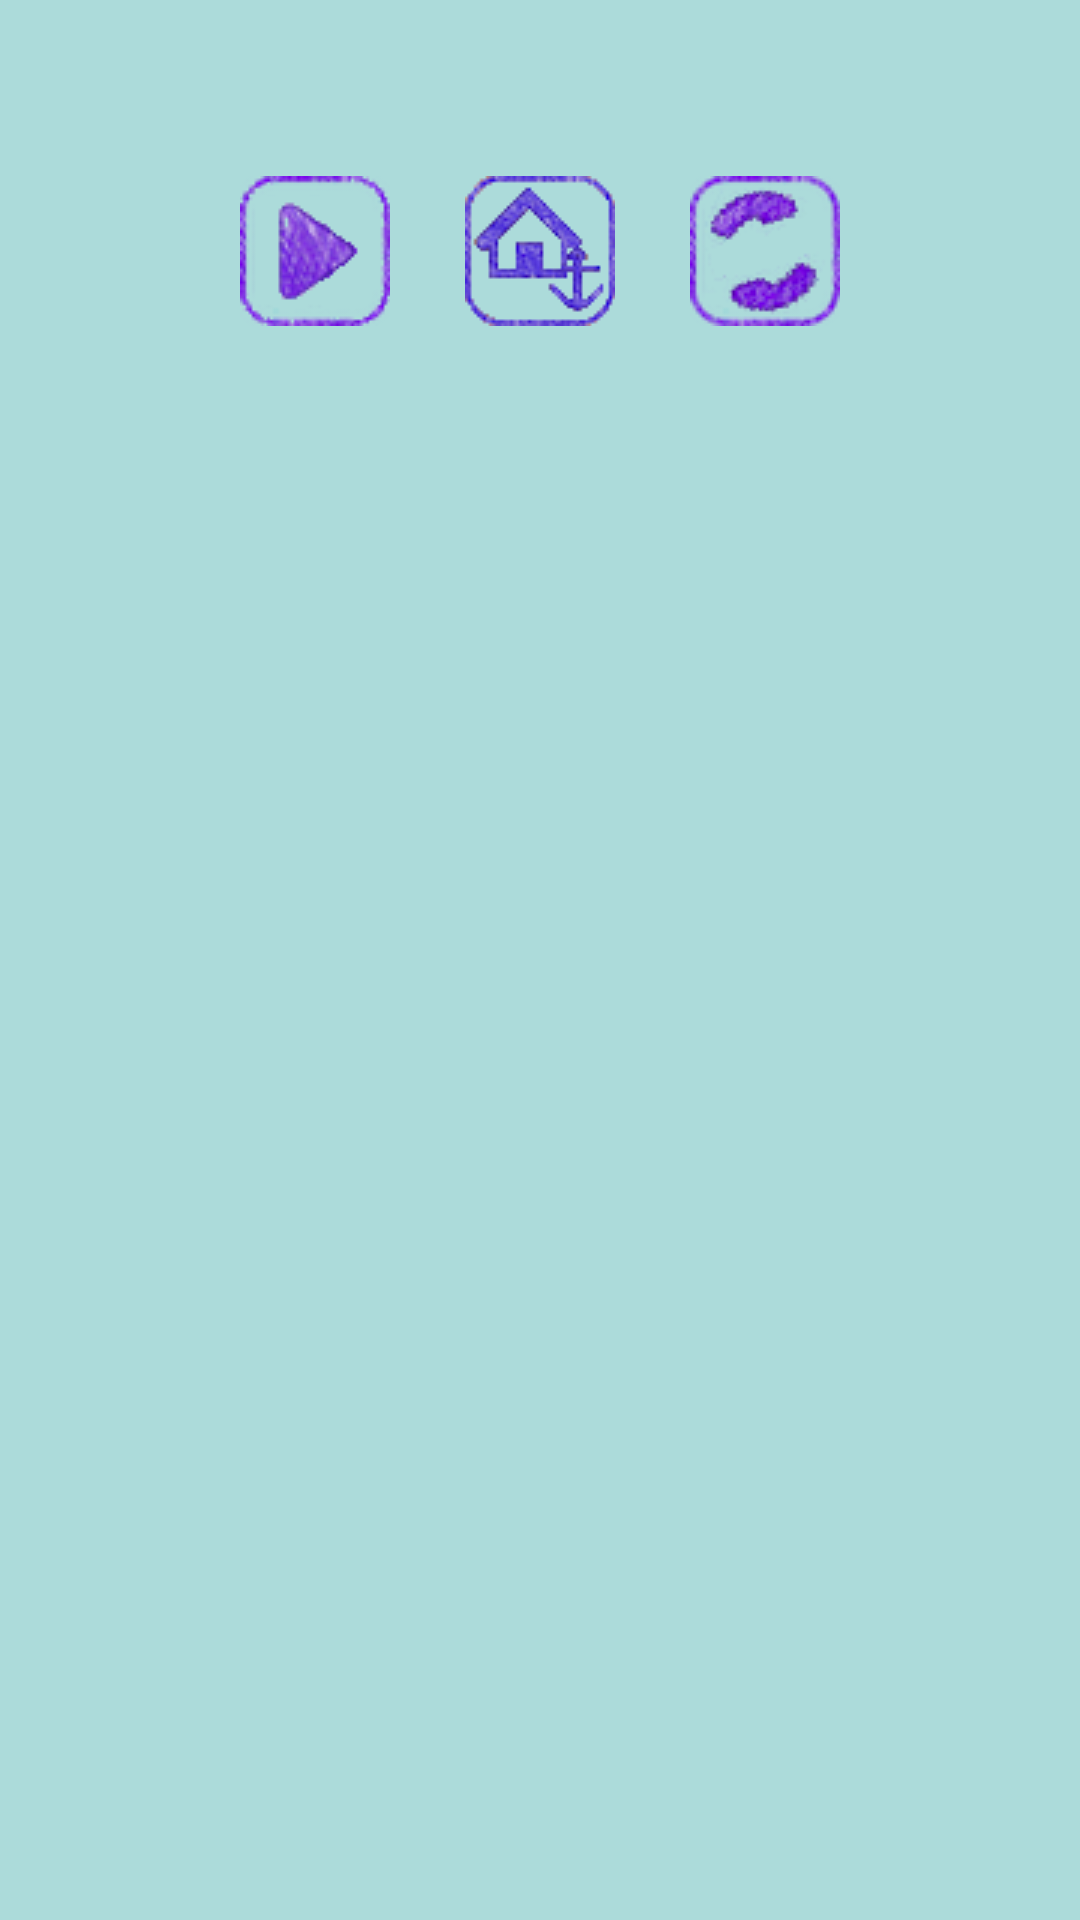

Point at icon controls on the screen. Image size 1080x1920, points as (x,y).
continue: (315,251)
home: (540,251)
replay: (765,251)
